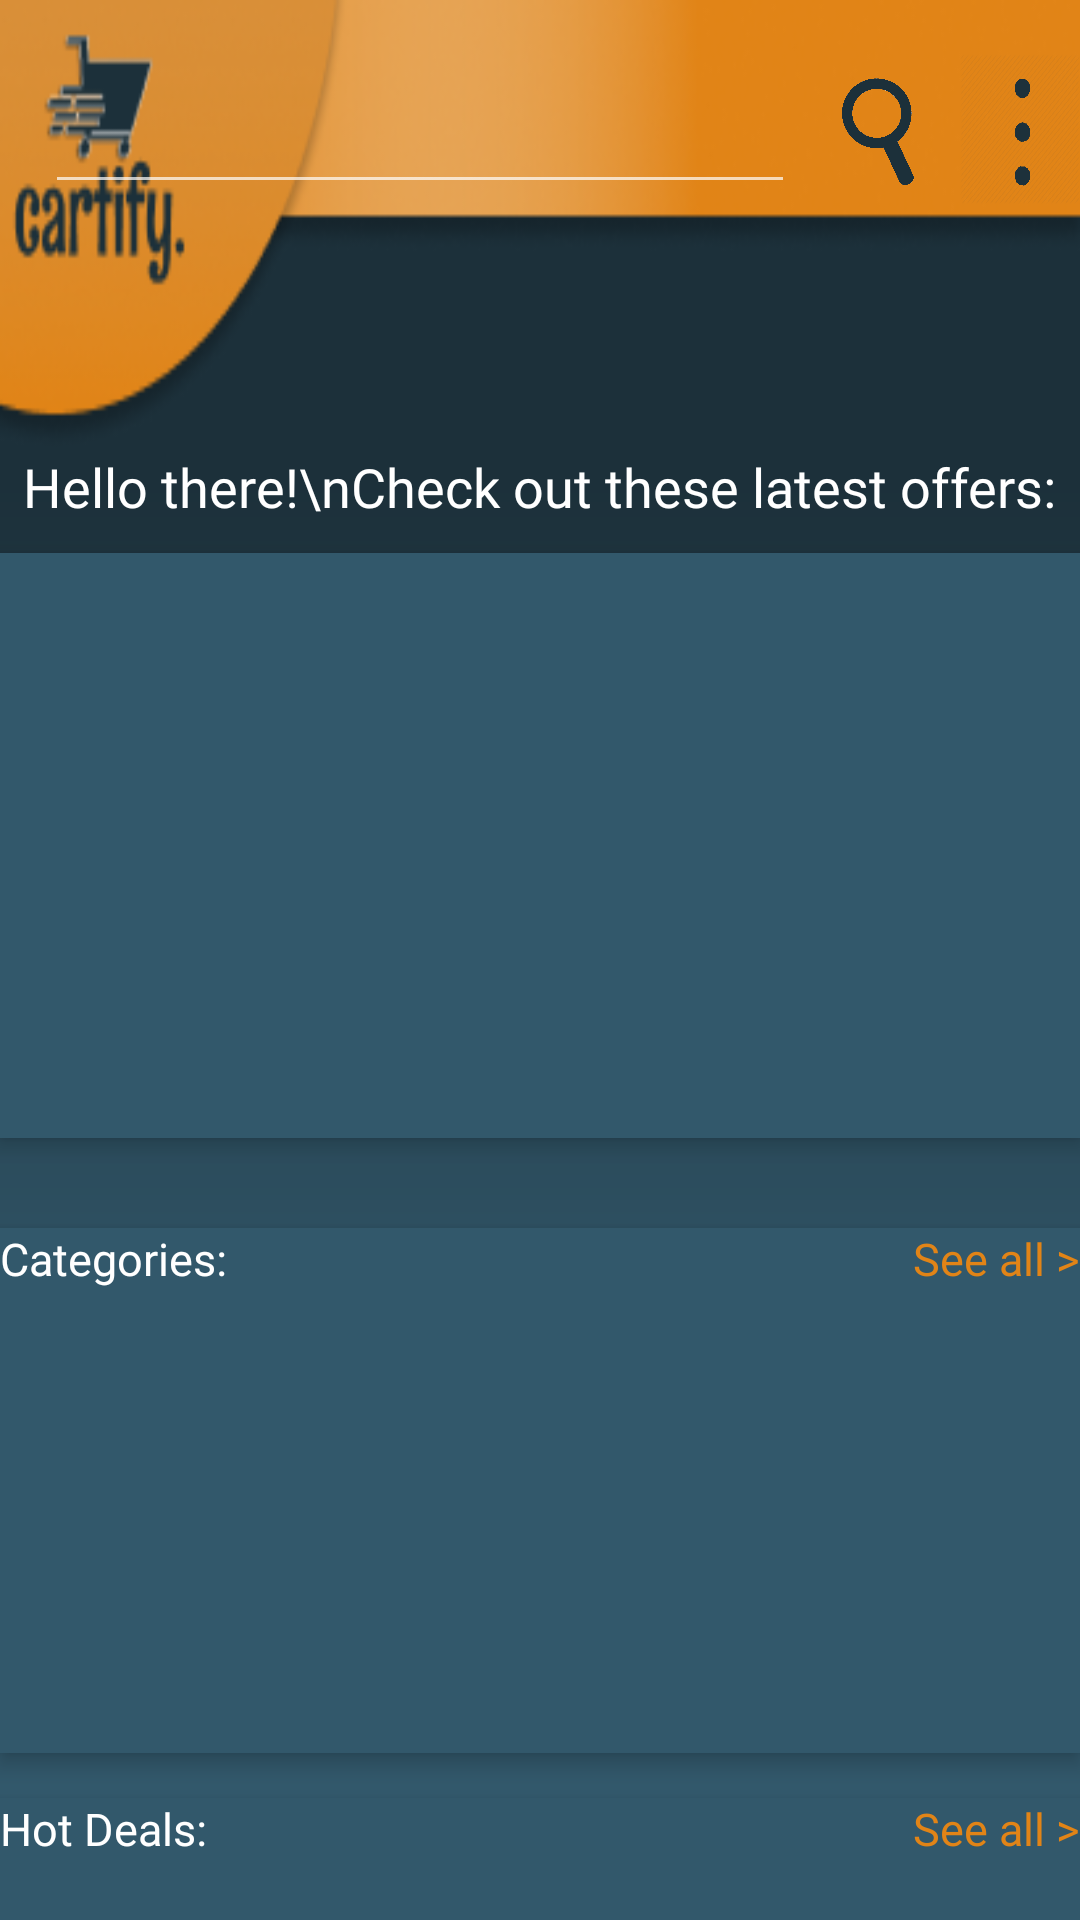

Where to tap for icons on this 1080 × 1920 app screen, as (x,y):
search: (878,131)
